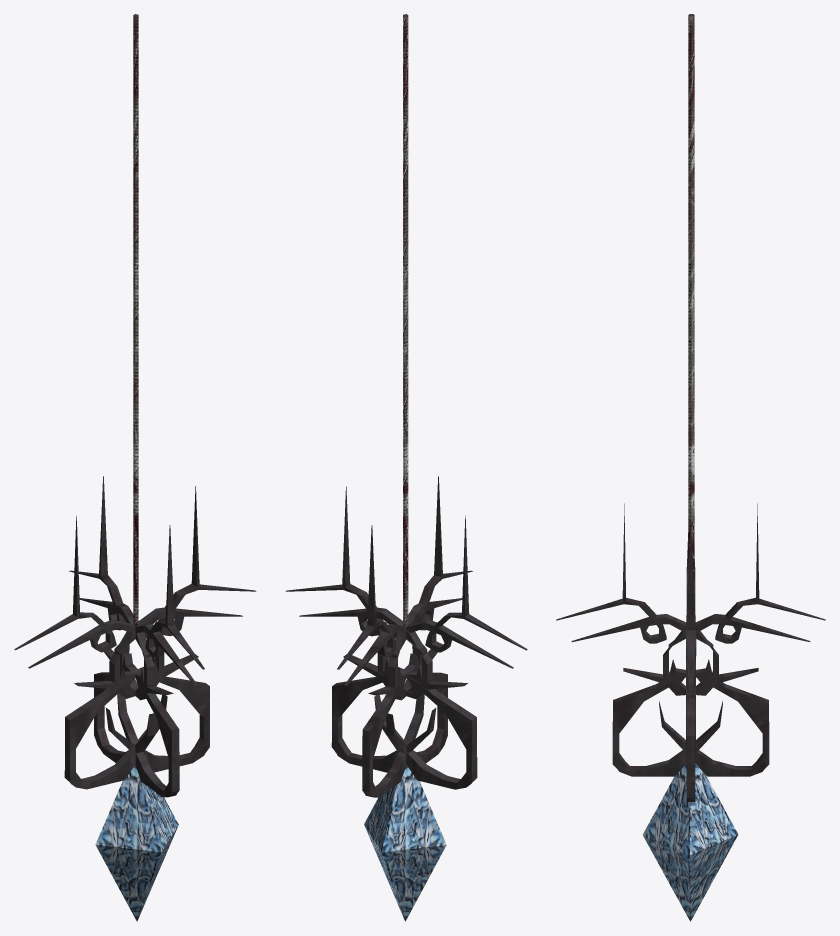
Rendered from HEDRA_CHANDELIER.fbx.
The picture shows the model from 3 angles, left to right: view 1: azimuth 30°, elevation 25°; view 2: azimuth 150°, elevation 25°; view 3: azimuth 270°, elevation 25°; orthographic projection.
Parts seen in each view (by area): view 1: Mesh1; view 2: Mesh1; view 3: Mesh1.
Boxes of the visible parts, box(x1,y1,x2,y2) form: Mesh1: box(14, 14, 256, 921); Mesh1: box(285, 14, 527, 921); Mesh1: box(556, 14, 825, 921).
Size of the model in its own units: 98.08 by 352 by 94.77.
